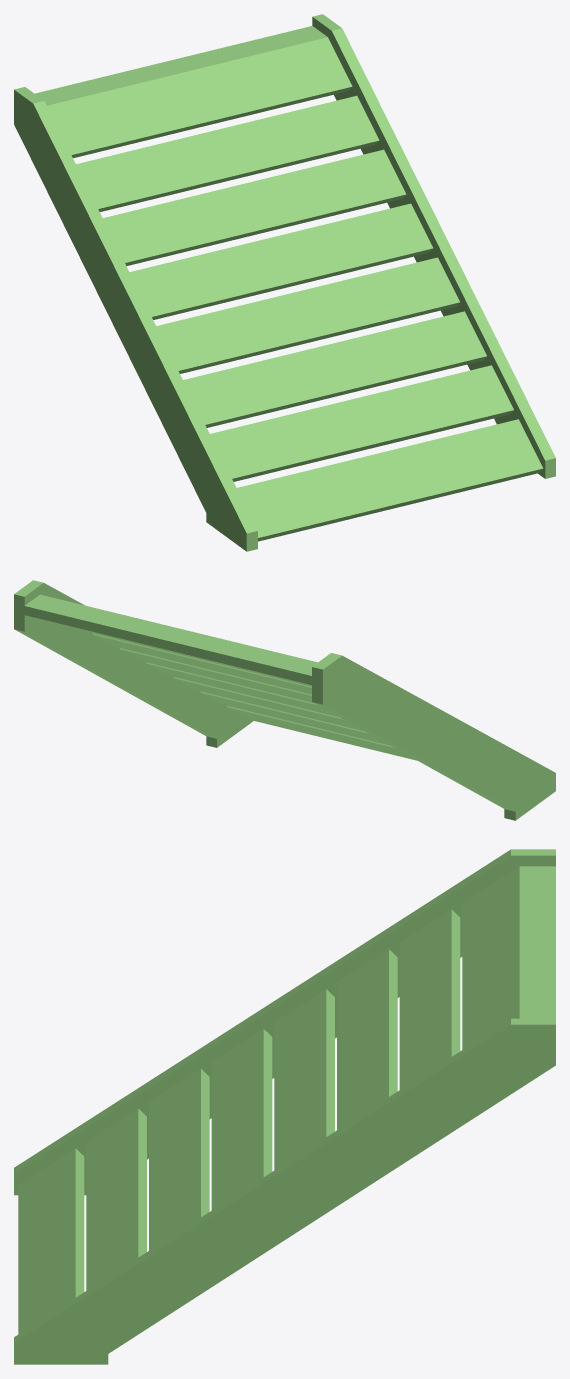
Rendered from Platform_Stairs.fbx.
3 views of the same model, one above another, from view 1: azimuth 30°, elevation 25°; view 2: azimuth 150°, elevation 25°; view 3: azimuth 270°, elevation 25° (orthographic). The views are drawn at different scales.
Parts seen in each view (by area): view 1: Platform_Stairs; view 2: Platform_Stairs; view 3: Platform_Stairs.
Boxes of the visible parts, x1,y1,x2,y2 form: Platform_Stairs: (14, 14, 555, 551); Platform_Stairs: (14, 580, 555, 820); Platform_Stairs: (14, 849, 555, 1364).
Bounding box in the file's own units: 230 × 208 × 300.
